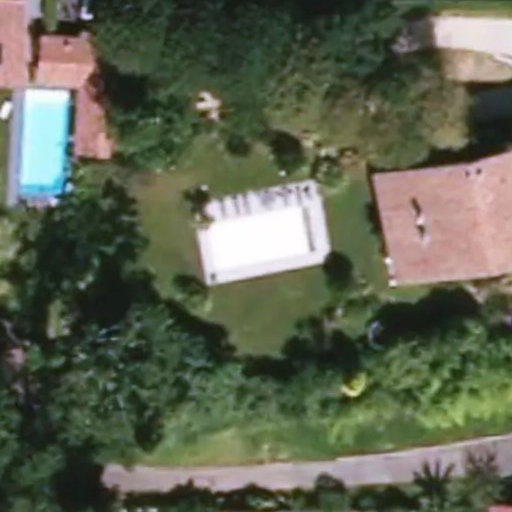pool: (206, 228, 305, 255)
